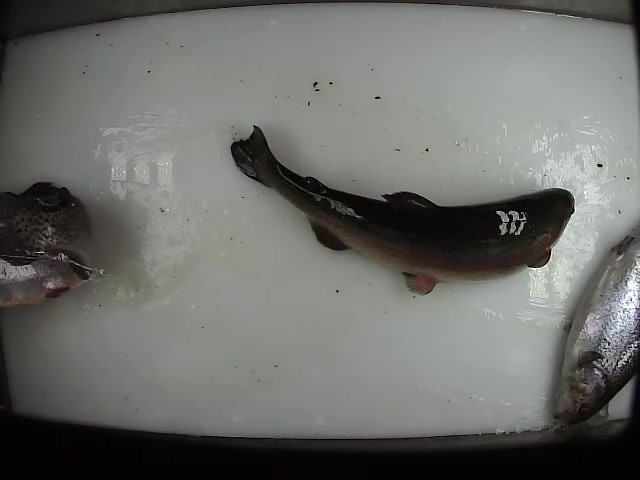fish: (228, 122, 577, 298), (551, 235, 640, 427), (1, 178, 99, 316)
